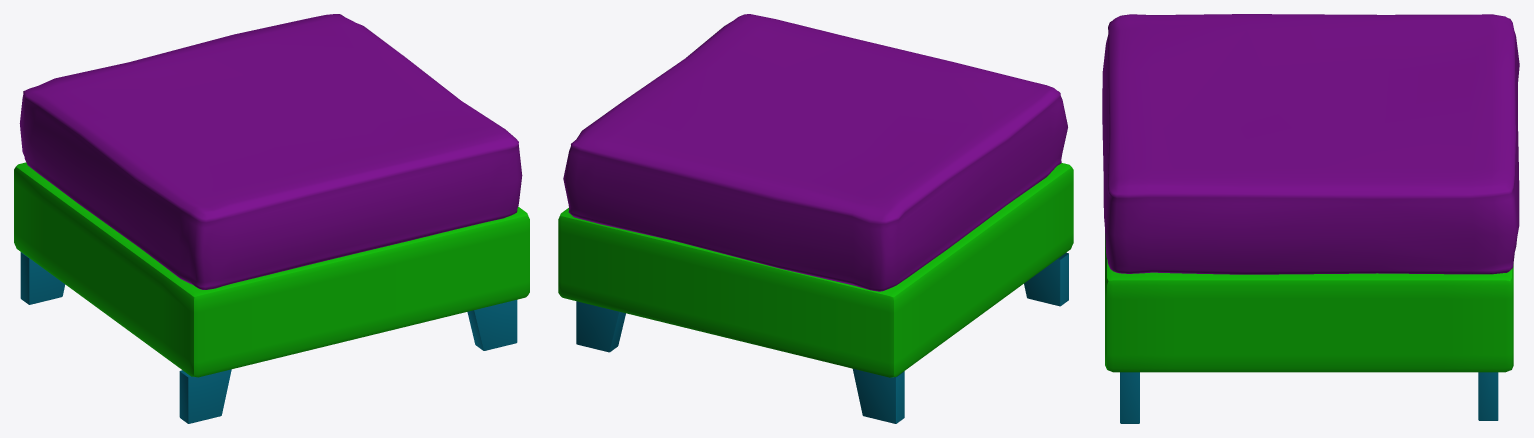
File: Sofa 6.FBX
The picture shows the model from 3 angles, left to right: view 1: azimuth 30°, elevation 25°; view 2: azimuth 150°, elevation 25°; view 3: azimuth 270°, elevation 25°; orthographic projection. The views are drawn at different scales.
Parts seen in each view (by area): view 1: Sofa 6; view 2: Sofa 6; view 3: Sofa 6.
Boxes of the visible parts, x1=… form: Sofa 6: x1=14, y1=14, x2=529, y2=423; Sofa 6: x1=558, y1=14, x2=1073, y2=423; Sofa 6: x1=1102, y1=14, x2=1519, y2=423.
Bounding box in the file's own units: 0.9945 × 0.943 × 0.5906.
